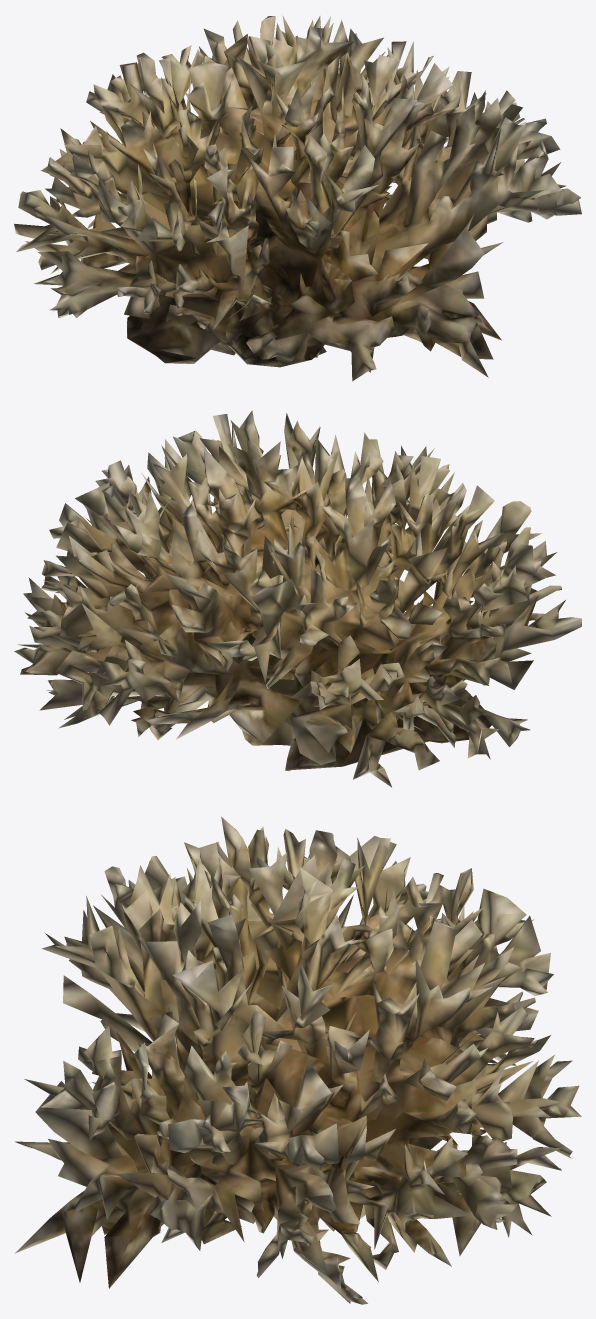
The model's file is pocillopora_damicornis_caespitosa.glb.
3 views of the same model, one above another, from view 1: azimuth 30°, elevation 25°; view 2: azimuth 150°, elevation 25°; view 3: azimuth 270°, elevation 25° (orthographic). The views are drawn at different scales.
Visible parts, largest first — view 1: Object_4; view 2: Object_4; view 3: Object_4.
Boxes of the visible parts, x1,y1,x2,y2 form: Object_4: (14, 15, 581, 381); Object_4: (14, 410, 581, 787); Object_4: (15, 816, 581, 1304).
Bounding box in the file's own units: 0.2366 × 0.1373 × 0.1978.
1 material, 1 textured.
